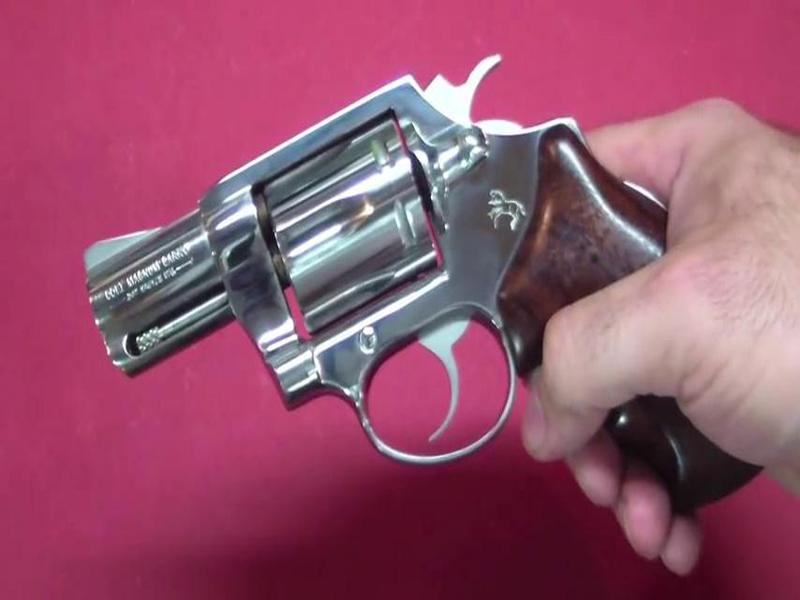Revolver: (55, 36, 682, 545)
